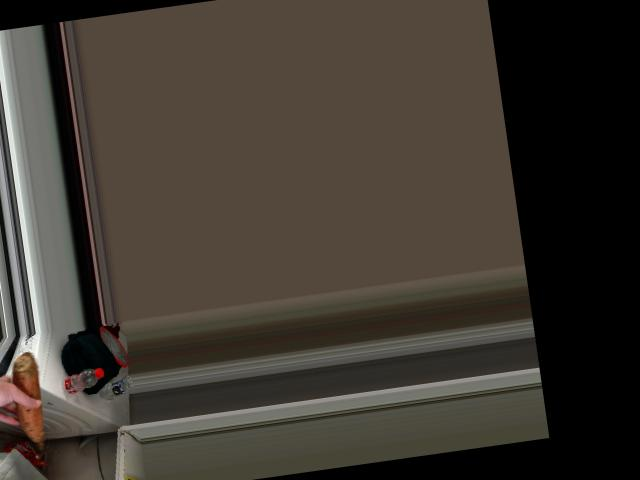sweet_potato: (10, 360, 47, 448)
